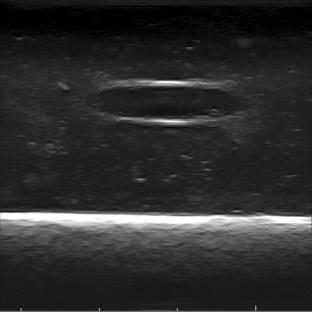vessel: (86, 79, 250, 126)
